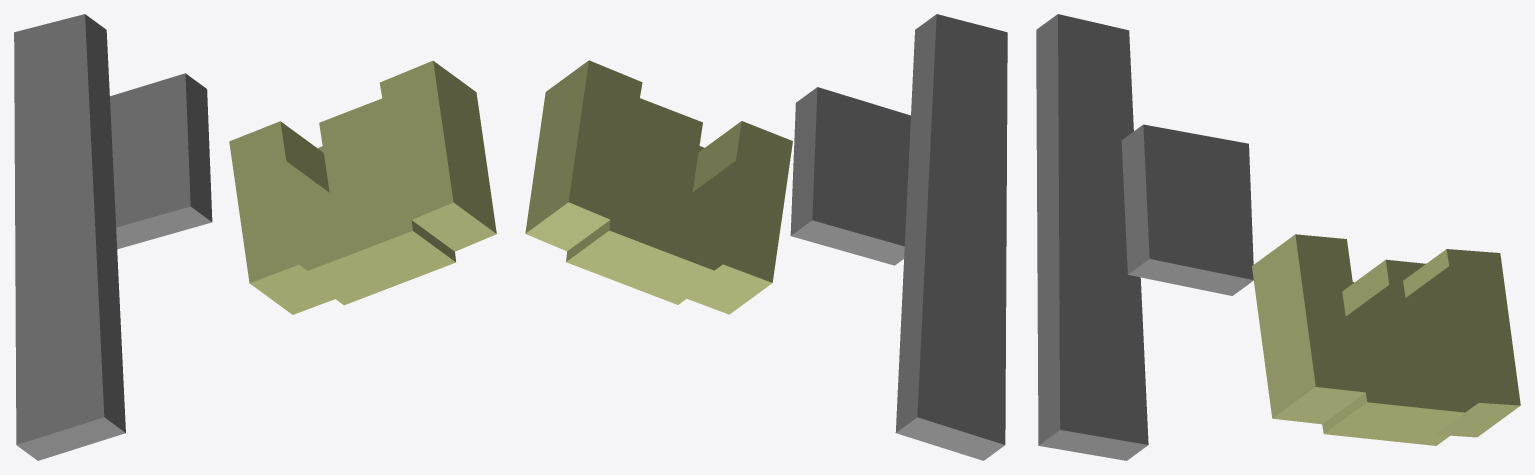
3 renders of one model, left to right at view 1: azimuth 30°, elevation 25°; view 2: azimuth 150°, elevation 25°; view 3: azimuth 330°, elevation 25°, orthographic.
Visible parts, largest first — view 1: 0_1_2_0_3_1_1; view 2: 0_1_2_0_3_1_1; view 3: 0_1_2_0_3_1_1.
Boxes of the visible parts, bbox=[...] form: 0_1_2_0_3_1_1: bbox=[14, 14, 496, 460]; 0_1_2_0_3_1_1: bbox=[525, 14, 1007, 460]; 0_1_2_0_3_1_1: bbox=[1036, 14, 1520, 460].
Bounding box in the file's own units: 35.98 × 31.66 × 6.
